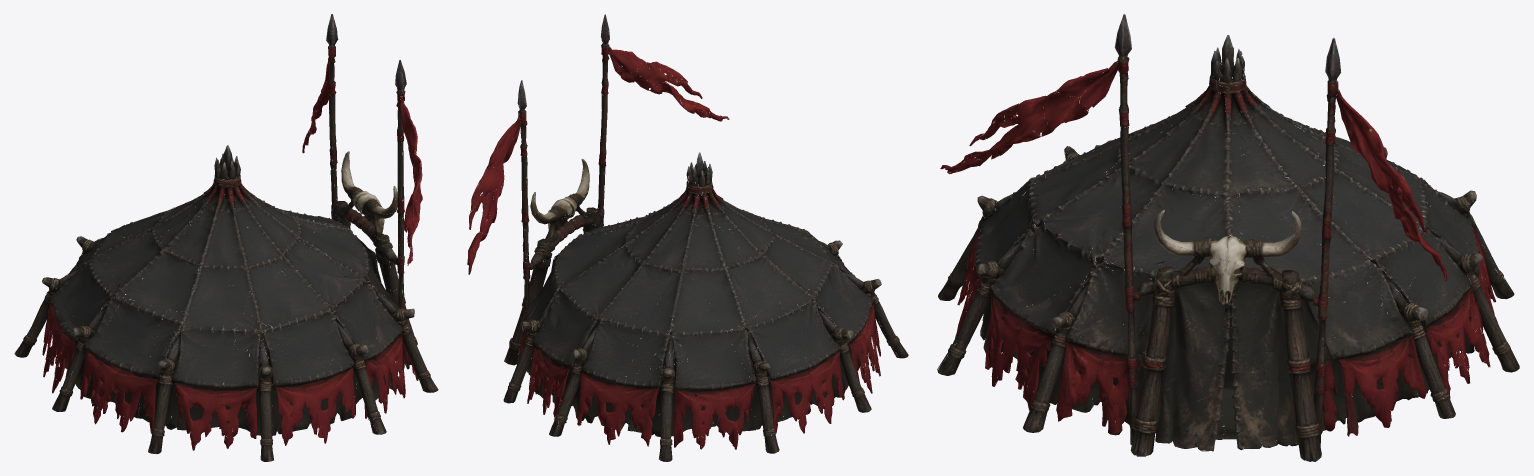
The model's file is gorak-tent-tripo.glb.
The picture shows the model from 3 angles, left to right: view 1: azimuth 30°, elevation 25°; view 2: azimuth 150°, elevation 25°; view 3: azimuth 270°, elevation 25°; orthographic projection. The views are drawn at different scales.
Visible parts, largest first — view 1: tripo_node_c60a4d27-2519-42df-a17b-f2b5f5a9910b; view 2: tripo_node_c60a4d27-2519-42df-a17b-f2b5f5a9910b; view 3: tripo_node_c60a4d27-2519-42df-a17b-f2b5f5a9910b.
Part boxes in pixels (bbox=[...]): tripo_node_c60a4d27-2519-42df-a17b-f2b5f5a9910b: bbox=[14, 14, 438, 461]; tripo_node_c60a4d27-2519-42df-a17b-f2b5f5a9910b: bbox=[467, 14, 908, 461]; tripo_node_c60a4d27-2519-42df-a17b-f2b5f5a9910b: bbox=[937, 14, 1519, 461].
Bounding box in the file's own units: 0.9277 × 0.816 × 0.9999.
Materials: 1 (1 with a texture image).
